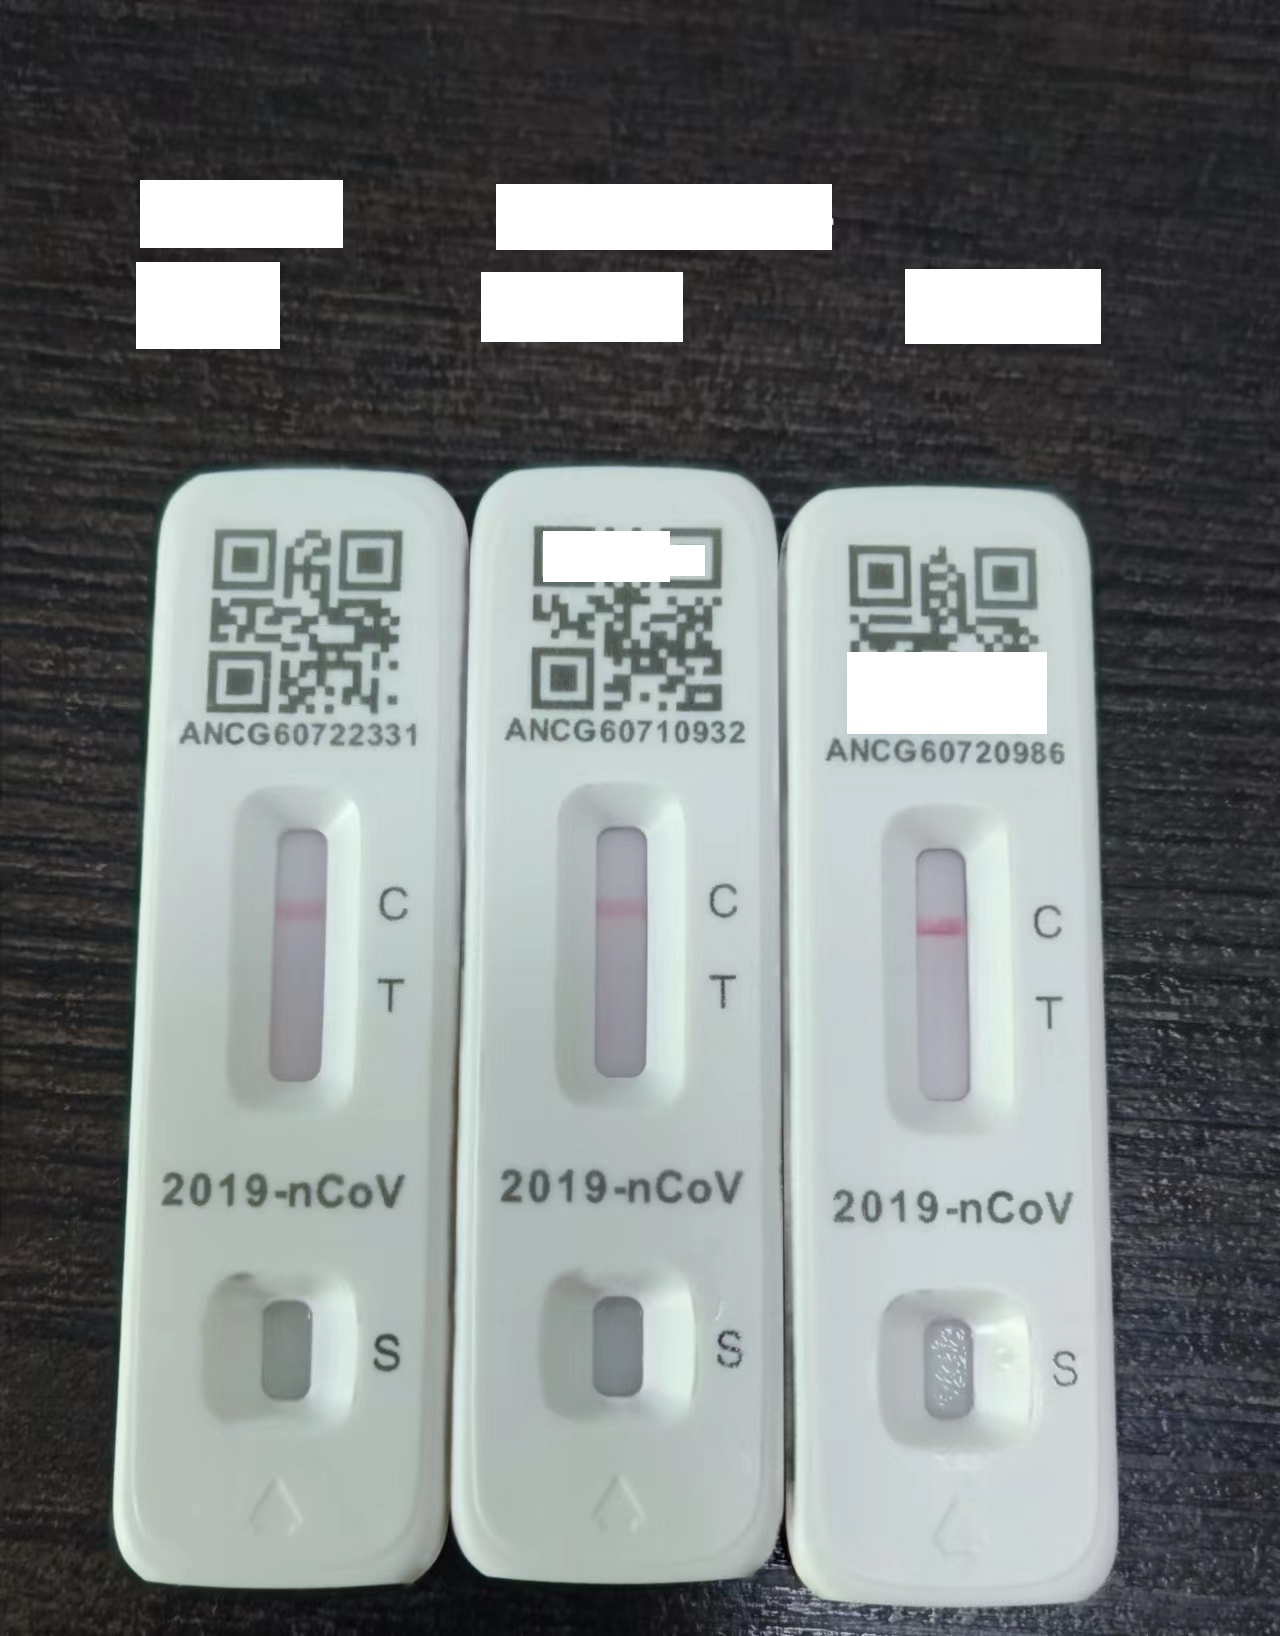negative: (552, 787, 686, 1110), (879, 807, 1005, 1145), (235, 789, 359, 1117)
